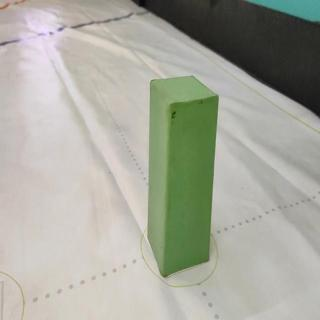greenbox: (147, 74, 220, 279)
